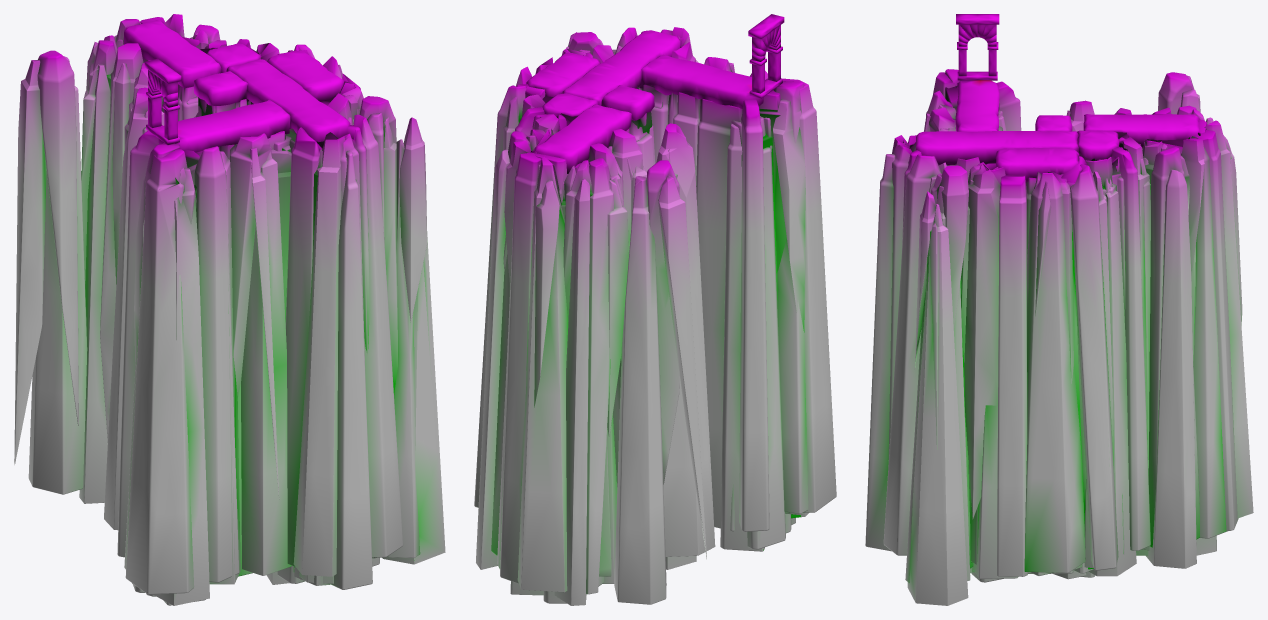
Rendered from level.glb.
3 views of the same model, side by side, from view 1: azimuth 30°, elevation 25°; view 2: azimuth 150°, elevation 25°; view 3: azimuth 270°, elevation 25° (orthographic). The views are drawn at different scales.
Visible parts, largest first — view 1: rock, marble; view 2: rock, marble; view 3: rock, marble.
Boxes of the visible parts, left/top/right/bottom form: rock: left=14, top=14, right=445, bottom=605; marble: left=124, top=20, right=350, bottom=151; rock: left=474, top=27, right=836, bottom=605; marble: left=526, top=14, right=784, bottom=173; rock: left=865, top=69, right=1253, bottom=605; marble: left=916, top=14, right=1199, bottom=182.
Bounding box in the file's own units: 11.77 × 19.83 × 14.49.
